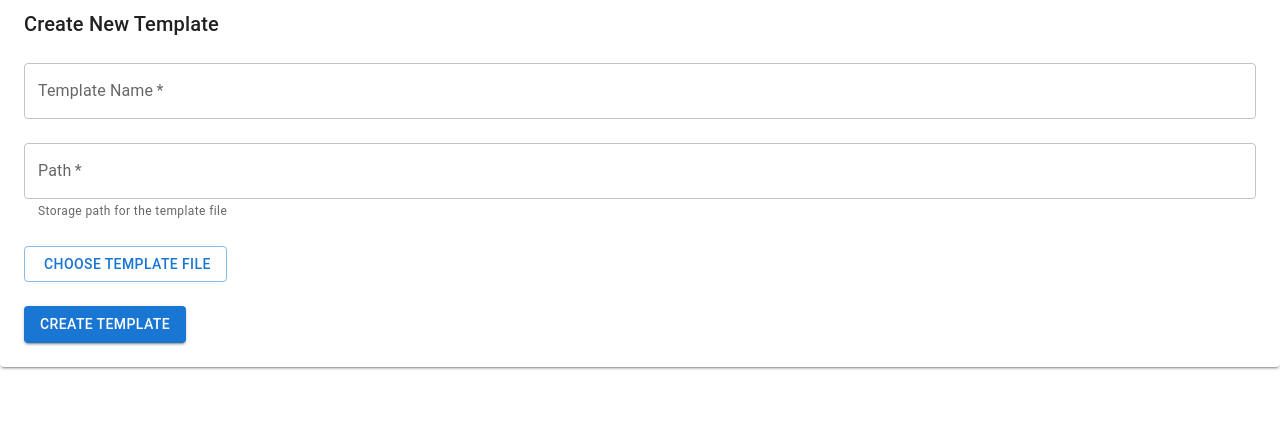
Test: TemplateForm › should show validation errors when submitting empty form
Click the button with test id "submit-template-button" at (105, 325), box [24,306,186,343]
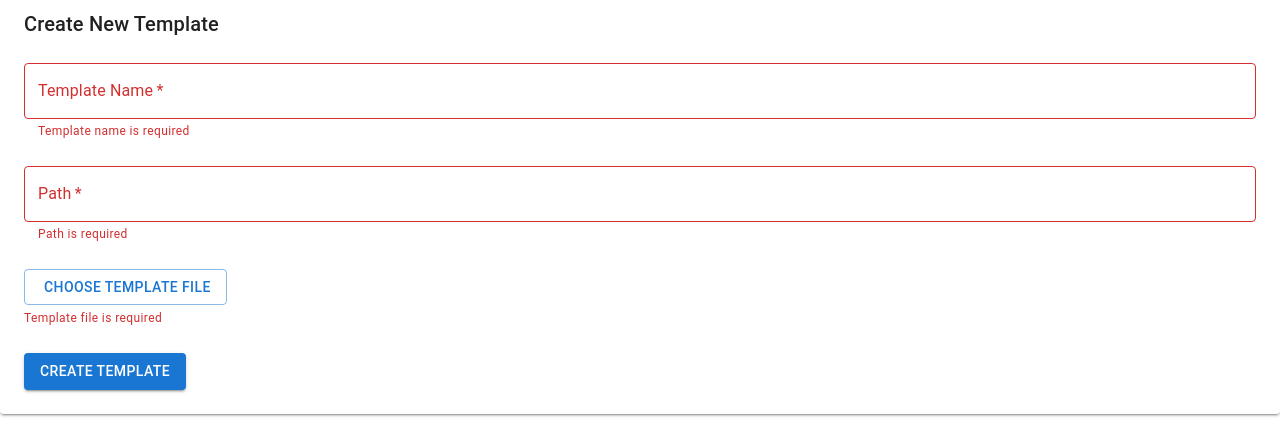
Now the text "Template name is required" is shown, box [38,124,190,138]
Now the text "Path is required" is shown, box [38,227,128,241]
Now the text "Template file is required" is shown, box [24,311,162,325]
